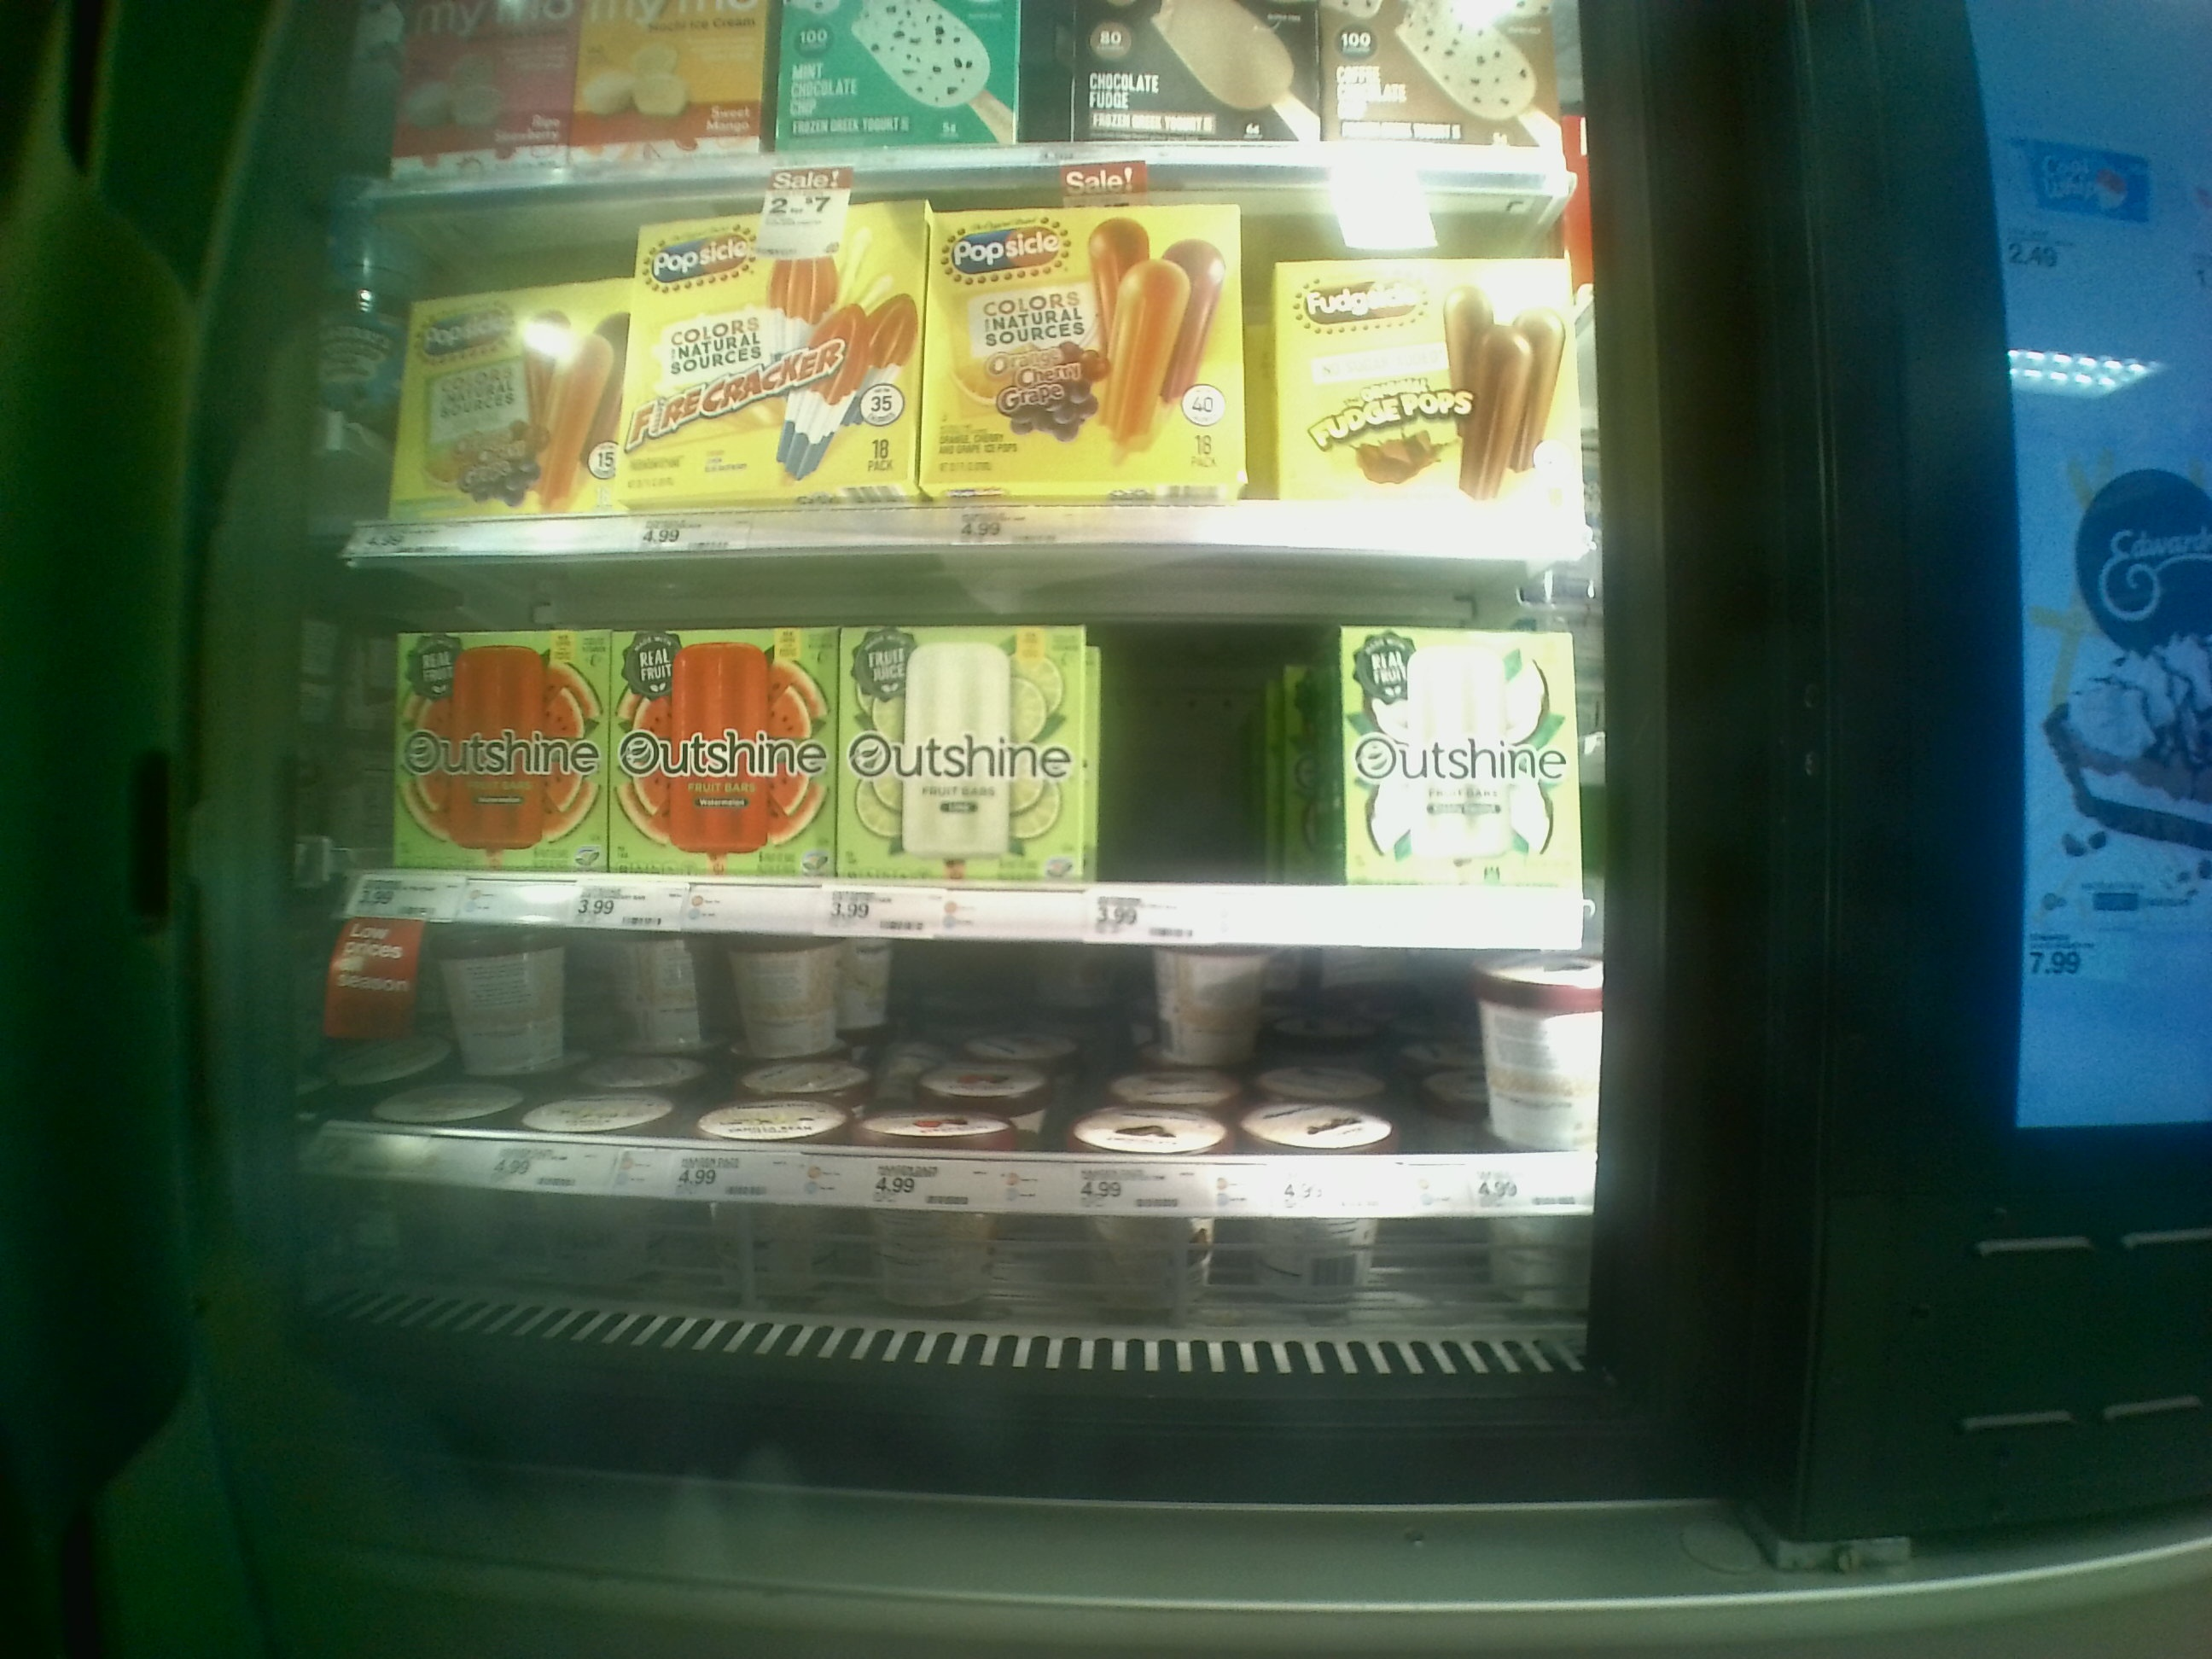ice-cream-shelf: (354, 561, 1606, 950), (331, 939, 1595, 1321), (359, 190, 1622, 561)
